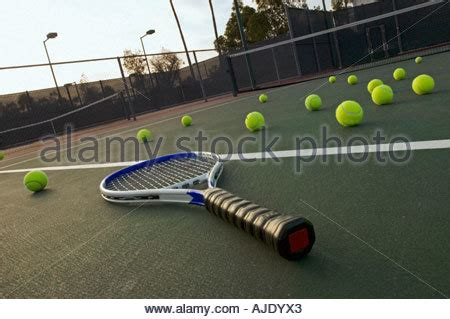tennis_ball: (335, 99, 363, 128), (23, 169, 48, 192), (412, 73, 434, 95), (372, 84, 393, 105), (245, 111, 264, 131), (304, 94, 322, 112), (136, 128, 152, 144), (367, 79, 382, 92), (393, 67, 406, 81), (180, 115, 193, 127), (347, 74, 358, 85), (258, 93, 268, 104), (328, 75, 336, 84), (415, 57, 422, 64)
